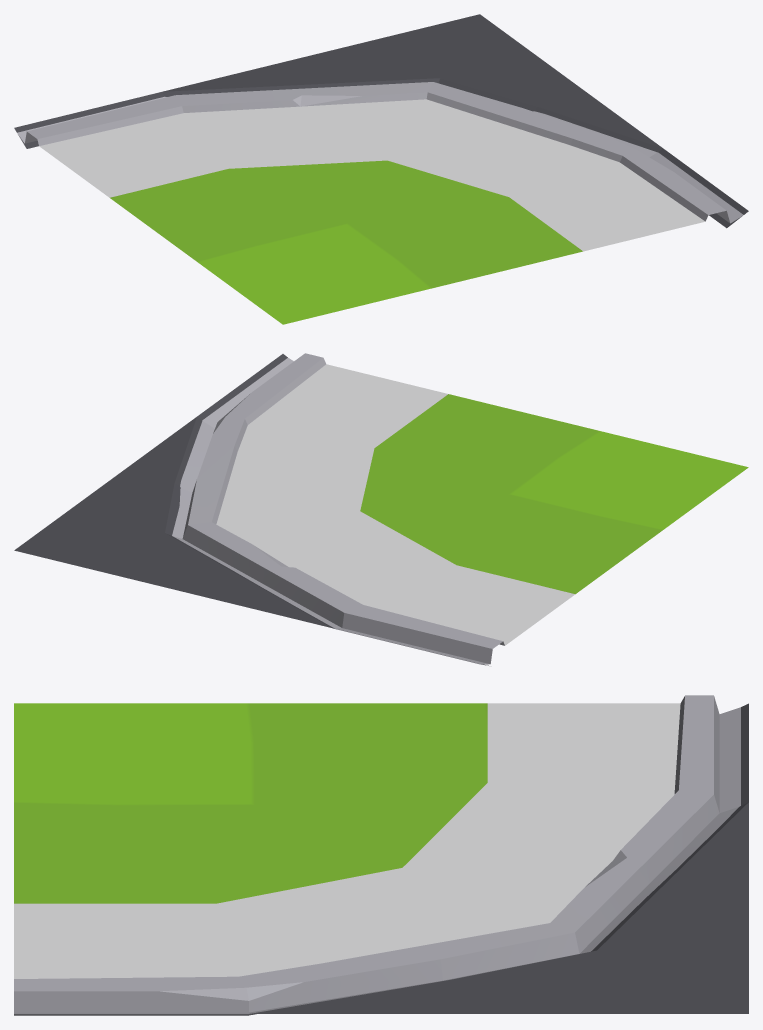
Rendered from sidewalk_default_corner.fbx.
3 views of the same model, one above another, from view 1: azimuth 30°, elevation 25°; view 2: azimuth 150°, elevation 25°; view 3: azimuth 270°, elevation 25° (orthographic). The views are drawn at different scales.
Parts seen in each view (by area): view 1: sidewalk_default_corner; view 2: sidewalk_default_corner; view 3: sidewalk_default_corner.
Part boxes in pixels (x1,y1,x2,y2): sidewalk_default_corner: [14, 14, 748, 324]; sidewalk_default_corner: [14, 353, 748, 665]; sidewalk_default_corner: [14, 695, 748, 1015].
Size of the model in its own units: 1050 by 38.18 by 1050.
